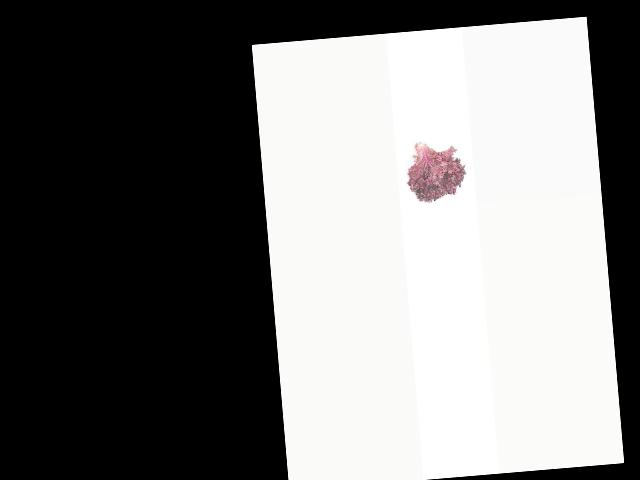lettuce: (405, 132, 470, 207)
